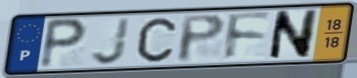C: (136, 16, 179, 64)
F: (223, 11, 273, 63)
J: (89, 16, 133, 67)
N: (266, 8, 320, 62)
P: (37, 17, 90, 71), (176, 13, 228, 65)
